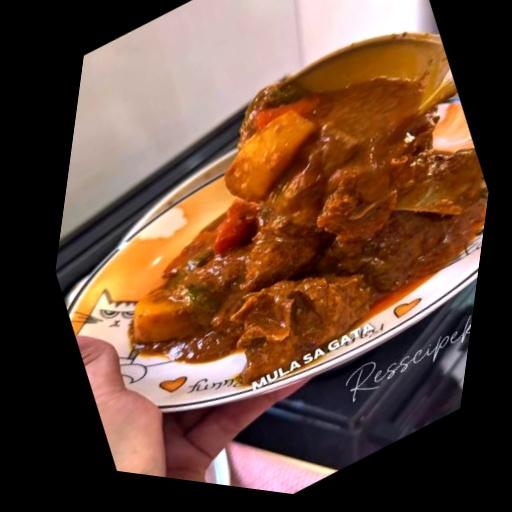pork caldereta: (132, 81, 489, 370)
